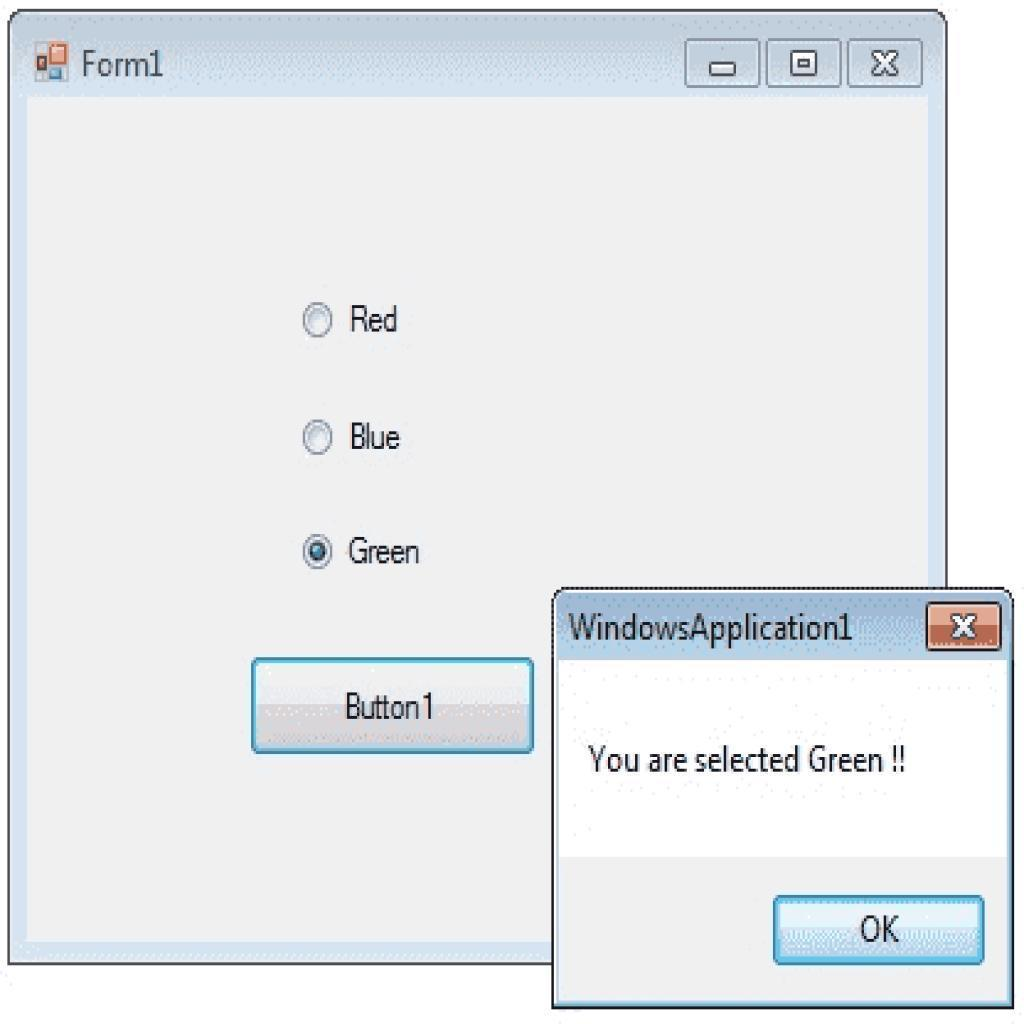button: (253, 660, 534, 753), (775, 893, 984, 963)
radio: (299, 296, 340, 346), (303, 535, 340, 579), (301, 418, 339, 460)
